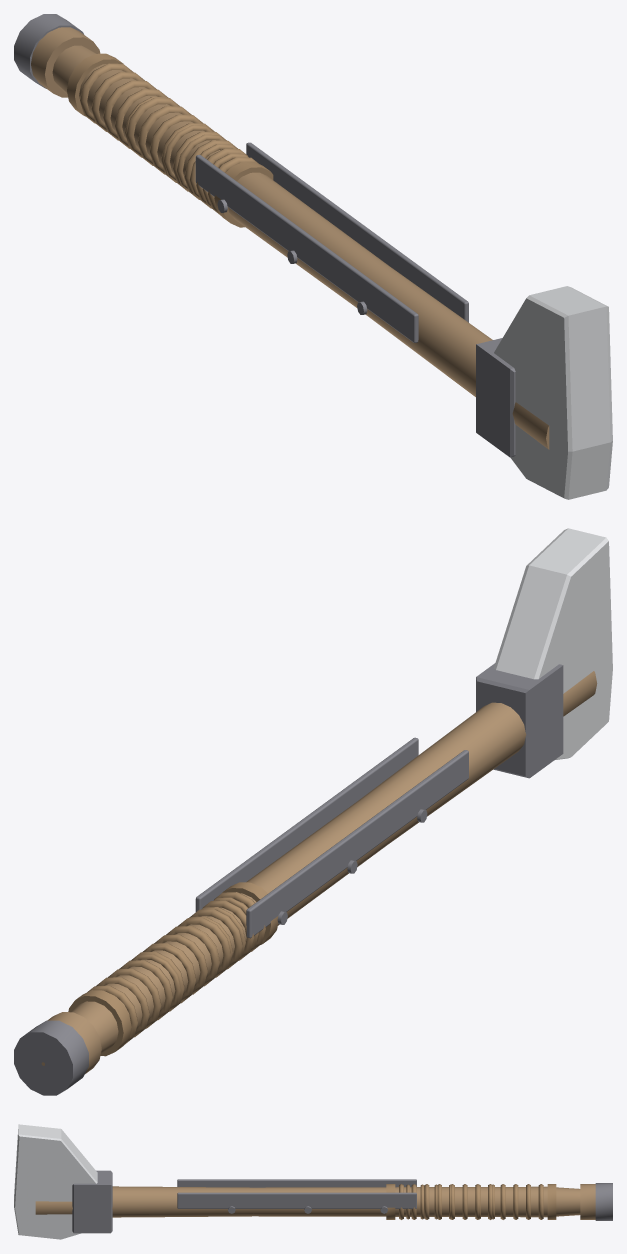
Rendered from francisca.glb.
3 renders of one model, top to bottom at view 1: azimuth 30°, elevation 25°; view 2: azimuth 150°, elevation 25°; view 3: azimuth 270°, elevation 25°, orthographic. The views are drawn at different scales.
Parts seen in each view (by area): view 1: francisca; view 2: francisca; view 3: francisca.
Boxes of the visible parts, box(x1,y1,x2,y2) form: francisca: box(14, 14, 612, 499); francisca: box(14, 528, 612, 1095); francisca: box(14, 1124, 612, 1239).
Size of the model in its own units: 0.0368 by 0.1066 by 0.55.
